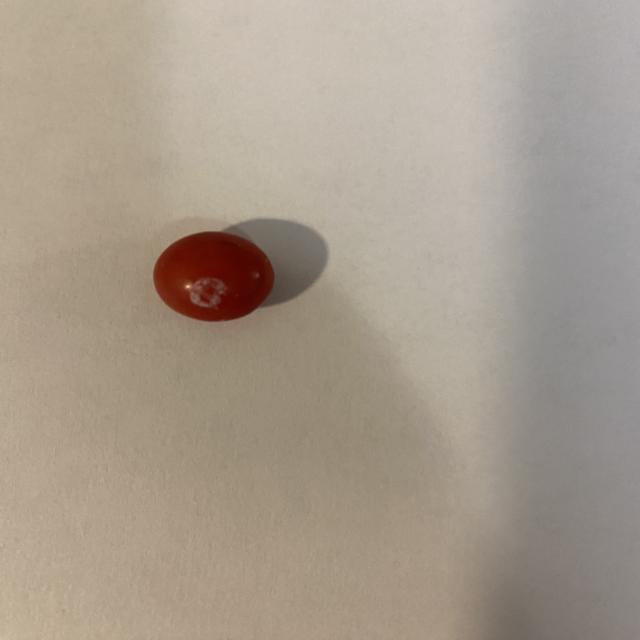smartie: (152, 232, 274, 321)
